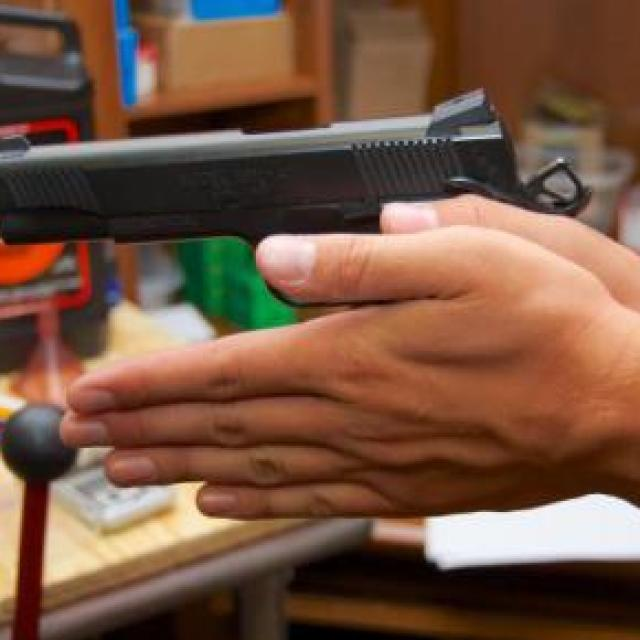pistol: (0, 86, 598, 333)
